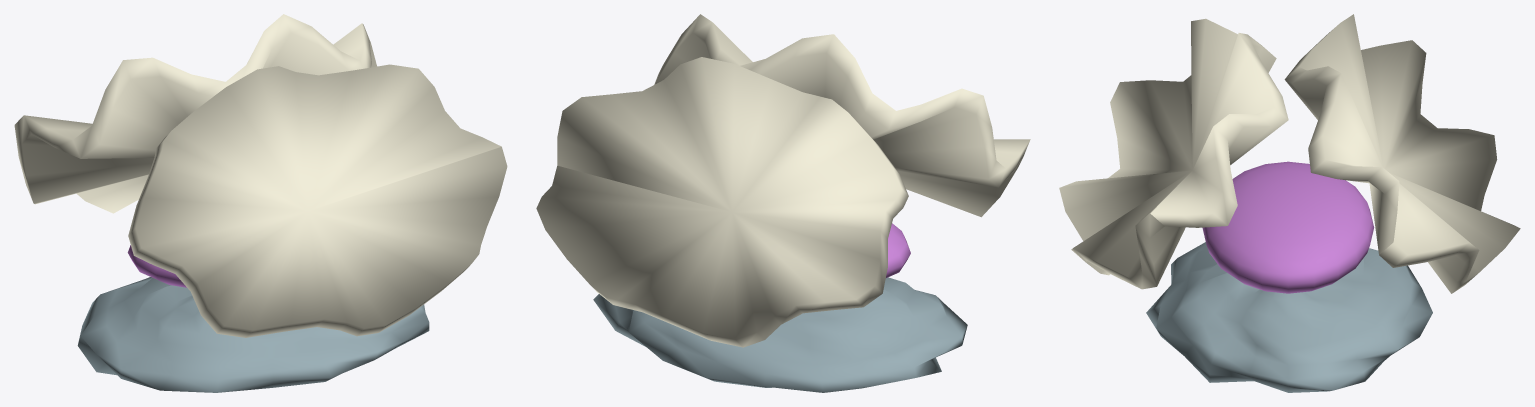
Rendered from underwater-reef-worlds-giant-clam-5797f506__7022.glb.
The picture shows the model from 3 angles, left to right: view 1: azimuth 30°, elevation 25°; view 2: azimuth 150°, elevation 25°; view 3: azimuth 270°, elevation 25°; orthographic projection. The views are drawn at different scales.
Parts seen in each view (by area): view 1: giant-clam; view 2: giant-clam; view 3: giant-clam.
Boxes of the visible parts, x1,y1,x2,y2 form: giant-clam: (14,14,507,392); giant-clam: (536,14,1030,392); giant-clam: (1059,14,1520,392).
Bounding box in the file's own units: 0.84 × 0.6753 × 1.02.
